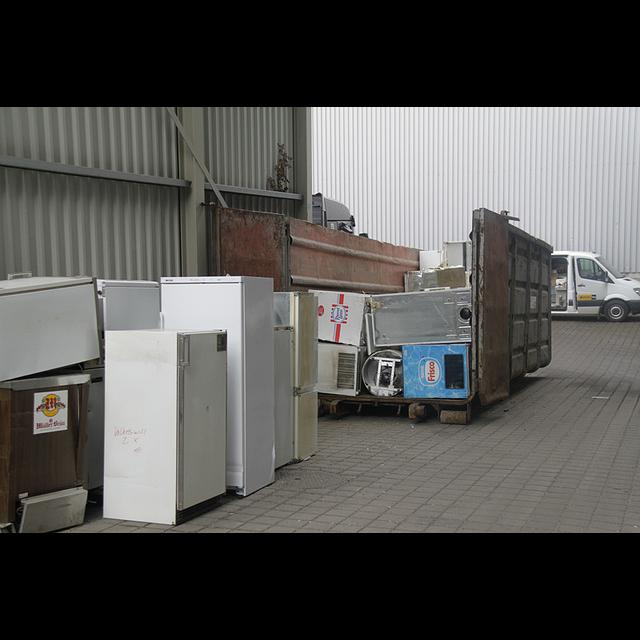Refrigerator: (161, 276, 275, 496), (102, 328, 228, 524), (0, 273, 100, 381), (273, 291, 316, 463), (0, 374, 91, 450), (371, 288, 472, 347), (95, 277, 165, 330), (309, 291, 375, 347), (272, 327, 294, 470), (314, 340, 367, 396)
